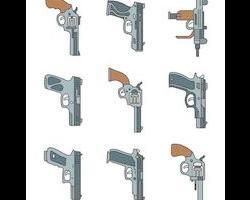gun: (105, 65, 143, 136), (164, 0, 208, 58), (166, 72, 208, 130), (41, 146, 83, 200), (42, 72, 83, 127), (167, 141, 205, 200), (102, 0, 144, 53), (102, 147, 144, 200), (42, 0, 81, 56)
